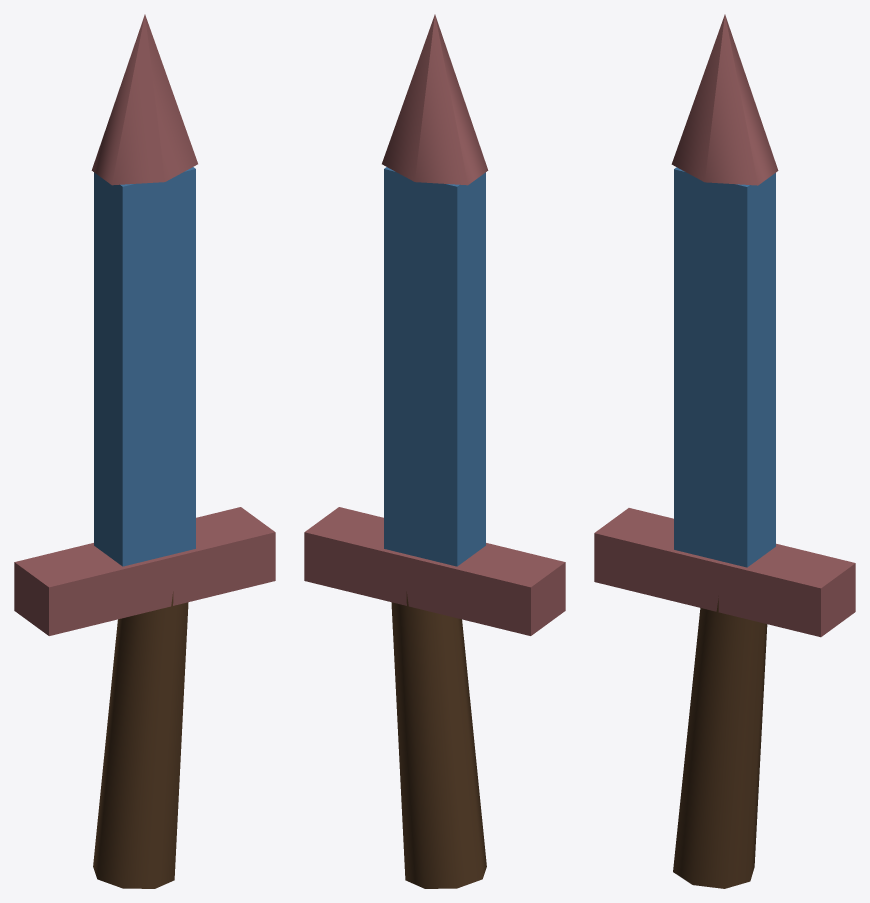
File: wpn_m_09.glb
The picture shows the model from 3 angles, left to right: view 1: azimuth 30°, elevation 25°; view 2: azimuth 150°, elevation 25°; view 3: azimuth 330°, elevation 25°; orthographic projection.
Visible parts, largest first — view 1: blade, grip, guard, tip; view 2: blade, grip, guard, tip; view 3: blade, grip, guard, tip.
Part boxes in pixels (left/top/right/bottom): blade: left=94, top=167, right=195, bottom=566; grip: left=93, top=591, right=188, bottom=888; guard: left=14, top=507, right=275, bottom=635; tip: left=91, top=14, right=197, bottom=185; blade: left=384, top=167, right=485, bottom=566; grip: left=391, top=591, right=486, bottom=888; guard: left=304, top=507, right=565, bottom=635; tip: left=382, top=14, right=488, bottom=185; blade: left=674, top=167, right=775, bottom=567; grip: left=673, top=596, right=767, bottom=888; guard: left=594, top=508, right=855, bottom=637; tip: left=671, top=14, right=778, bottom=185.
Size of the model in its own units: 0.34 by 1.23 by 0.11.
